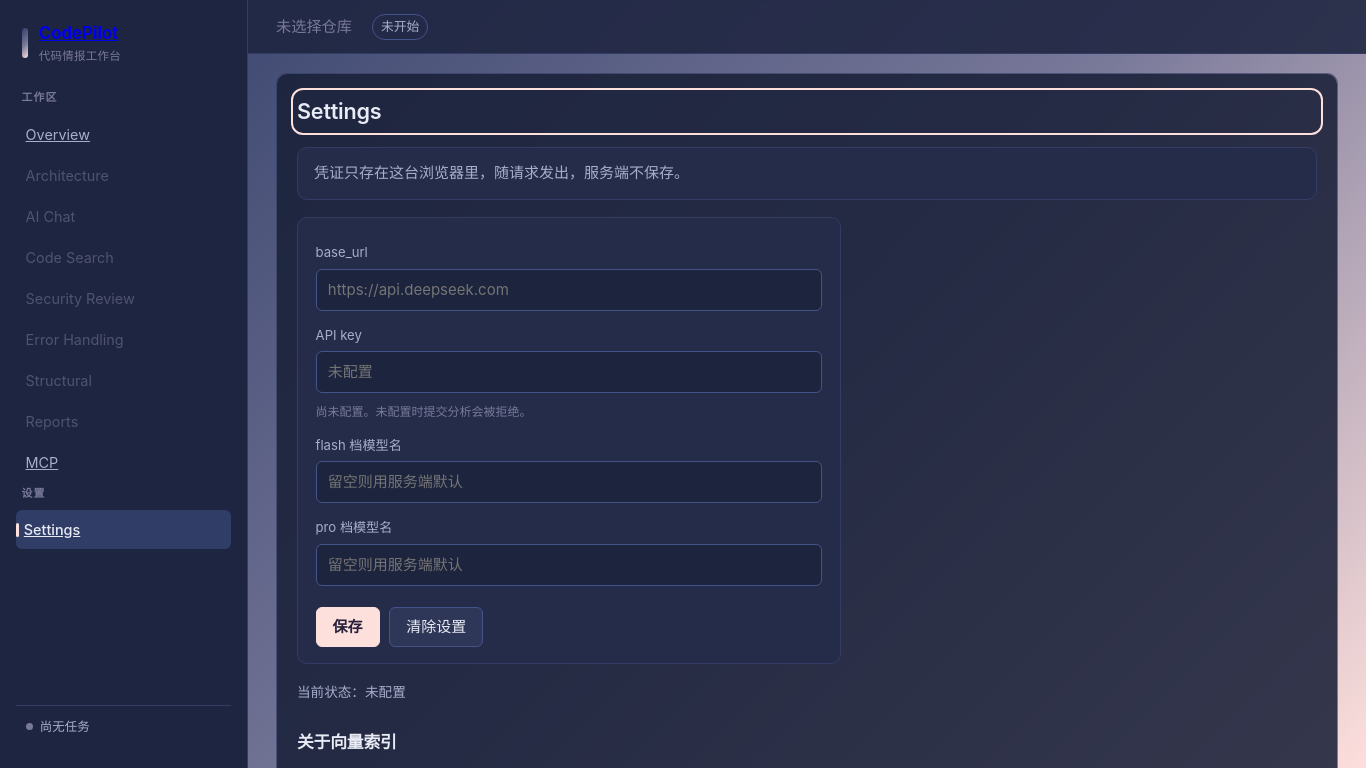
Scenario: 保存与清除 › 保存后凭证写入 localStorage
In the field labelled "base_url": (569, 290) left=316, top=269, right=822, bottom=311, type "https://api.example"
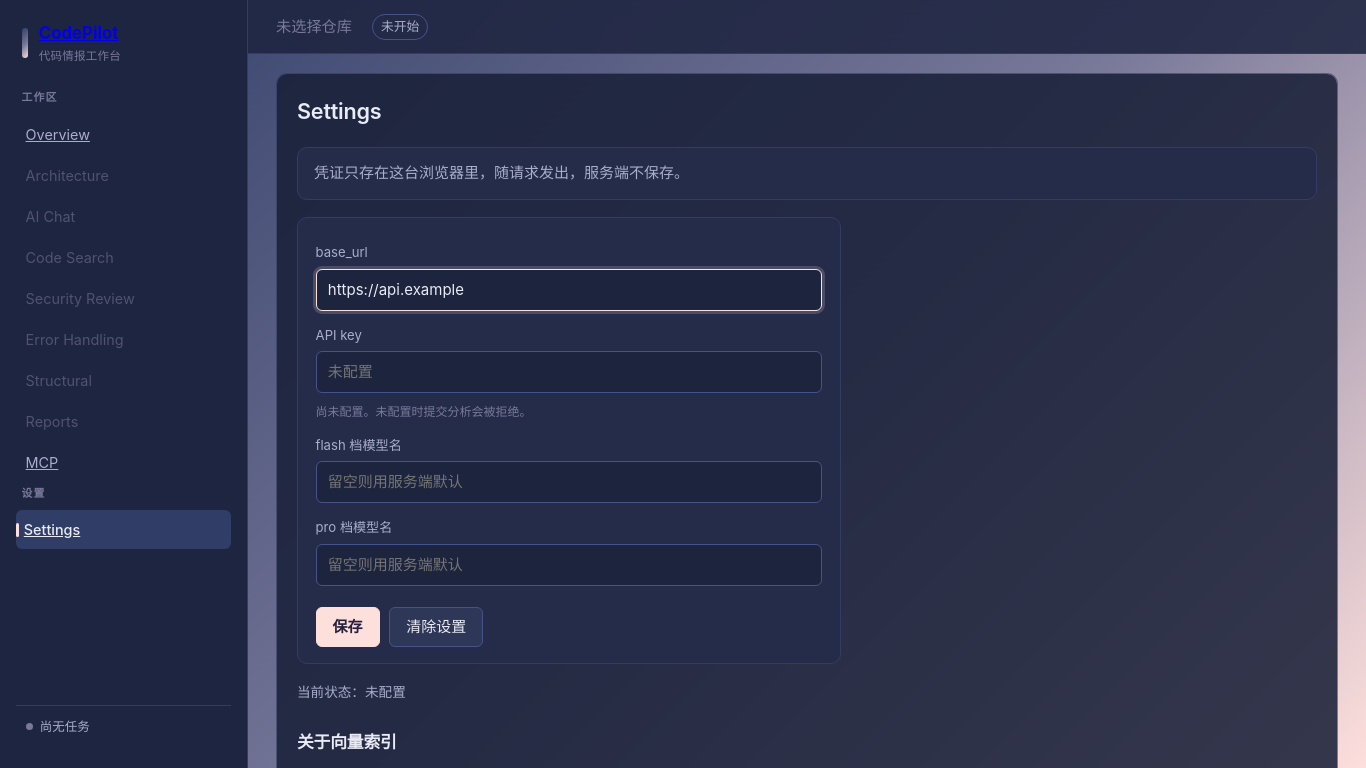
In the password field labelled "API key": (569, 372) left=316, top=351, right=822, bottom=393, type "sk-verysecret-abcd1234"
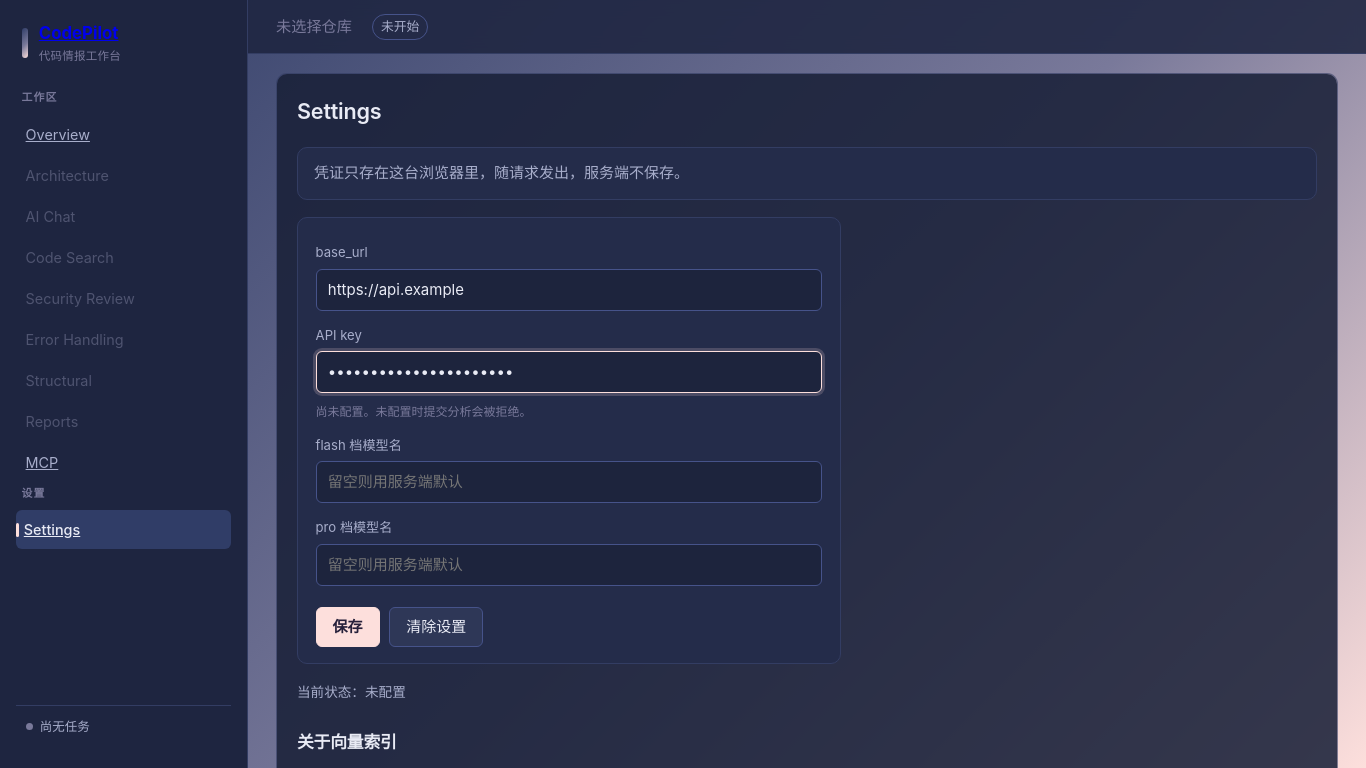
Click the button "保存": (348, 627) left=316, top=607, right=380, bottom=648
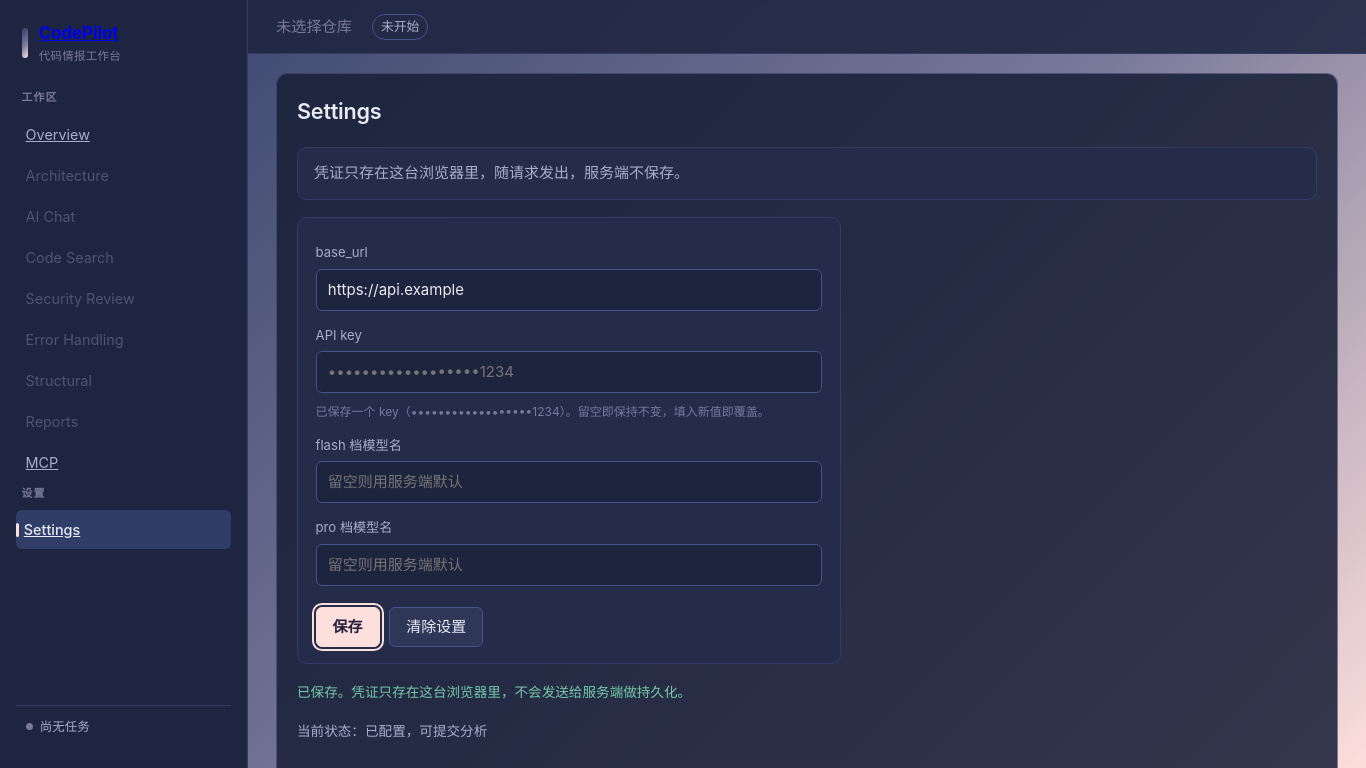
Expected: the text "已保存。凭证只存在这台浏览器里，不会发送给服务端做持久化。" is shown, left=297, top=684, right=691, bottom=700
